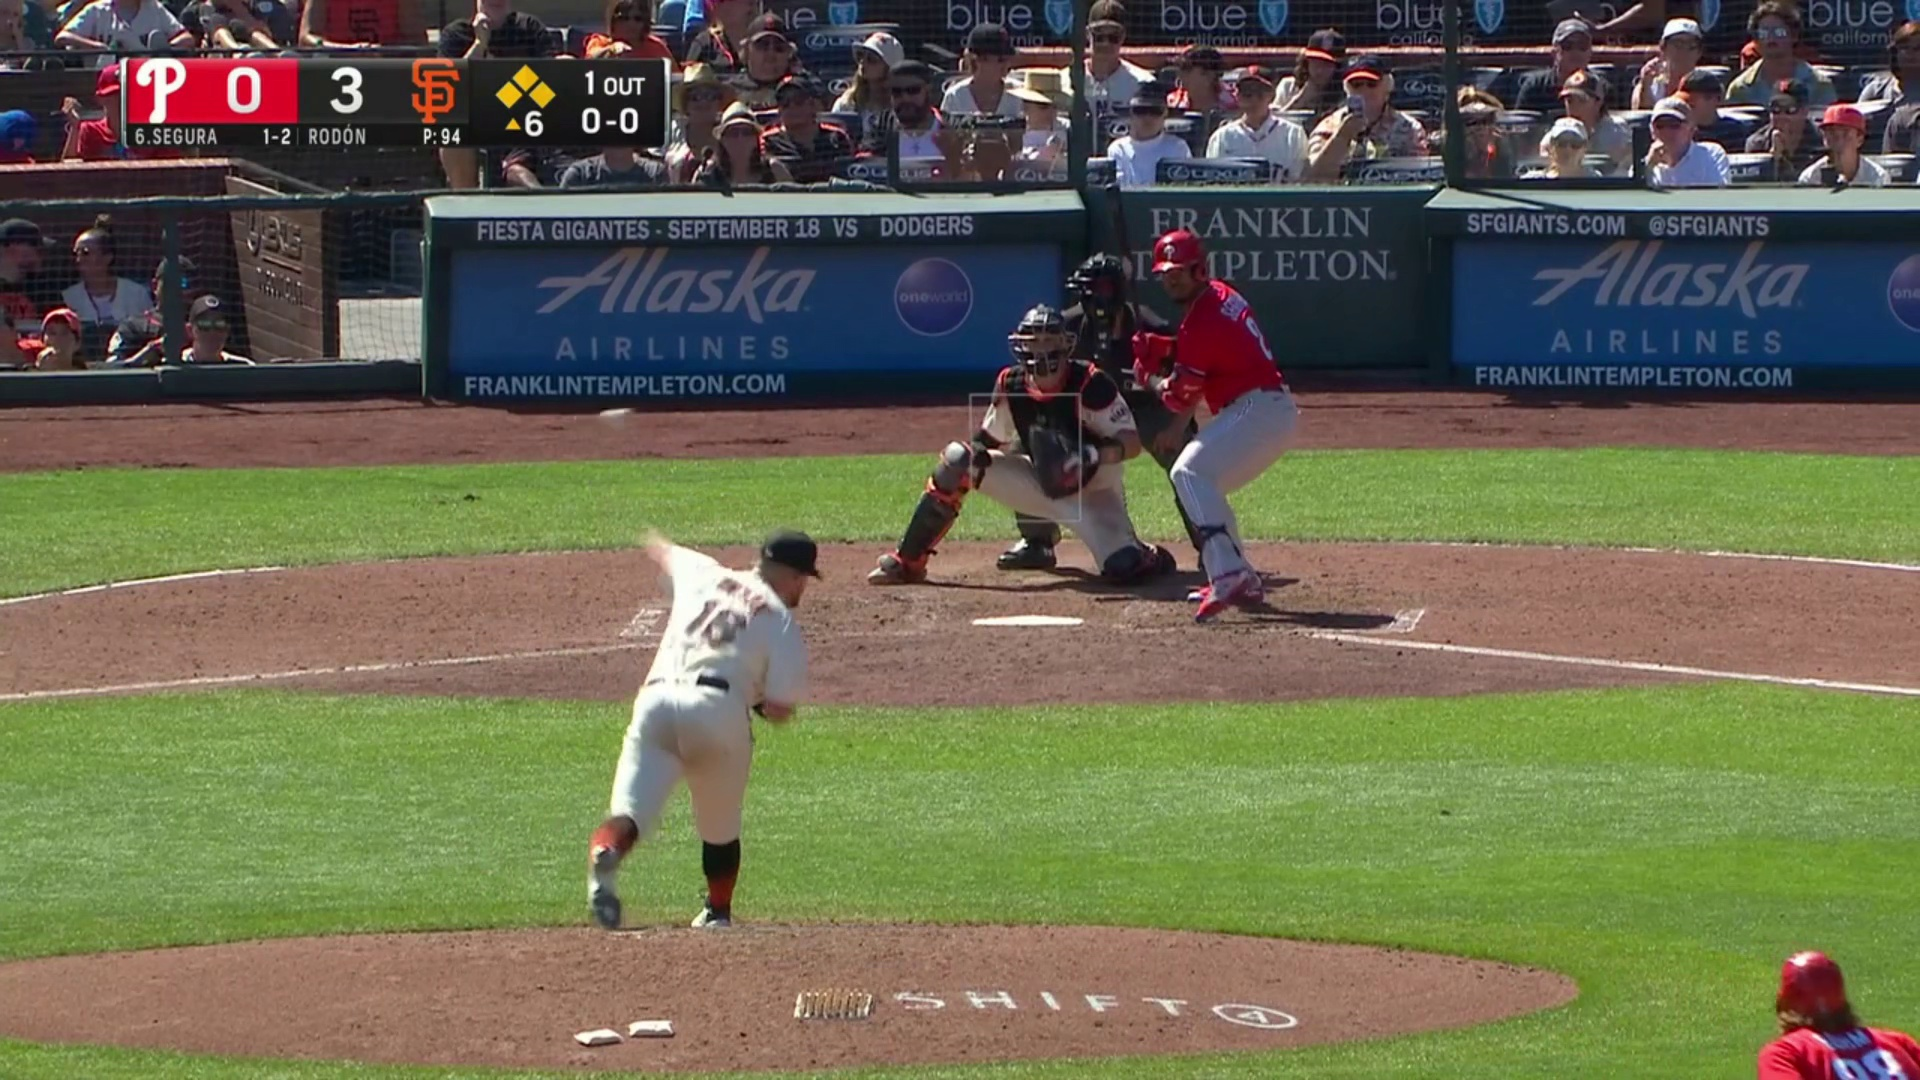baseball: (597, 406, 634, 433)
